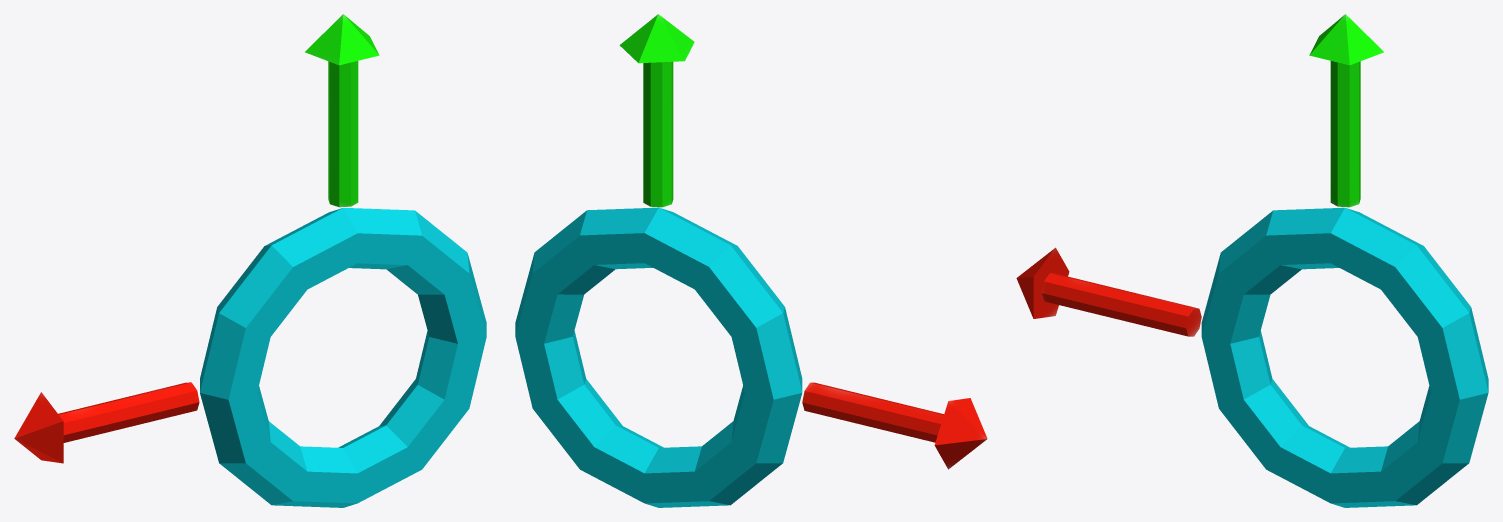
Rendered from Locator.fbx.
3 views of the same model, side by side, from view 1: azimuth 30°, elevation 25°; view 2: azimuth 150°, elevation 25°; view 3: azimuth 330°, elevation 25° (orthographic).
Parts seen in each view (by area): view 1: View Indicator, Cone.001; view 2: View Indicator, Cone.001; view 3: View Indicator, Cone.001.
Part boxes in pixels (box(x1,y1,x2,y2)): View Indicator: box(200, 207, 486, 507); Cone.001: box(14, 14, 379, 463); View Indicator: box(515, 207, 802, 507); Cone.001: box(619, 14, 987, 469); View Indicator: box(1201, 207, 1488, 507); Cone.001: box(1016, 14, 1383, 336).
Bounding box in the file's own units: 1.07 × 0.1409 × 1.07.
2 materials, 1 textured.
